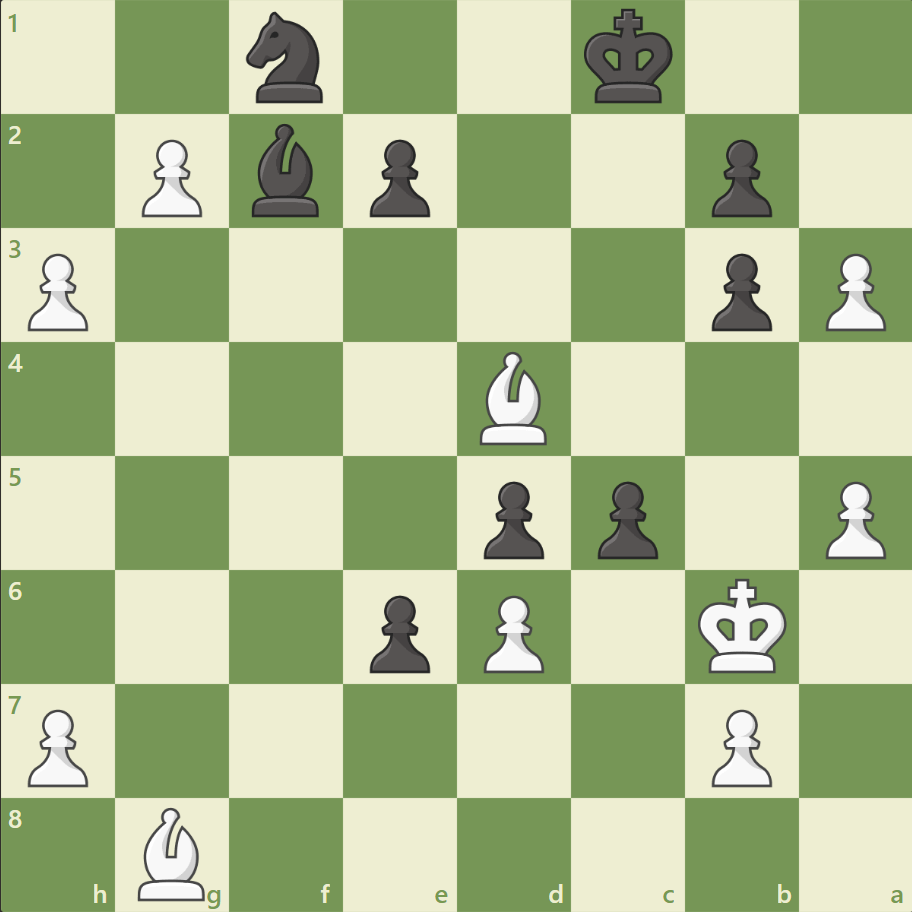B: (131, 801, 215, 904), (471, 347, 555, 449)
K: (692, 571, 792, 679)
P: (701, 700, 776, 791), (20, 700, 95, 791), (474, 586, 549, 677), (20, 246, 95, 337), (133, 132, 208, 223), (815, 473, 889, 564), (815, 246, 889, 337)
b: (244, 120, 328, 222)
k: (579, 4, 679, 112)
n: (238, 7, 335, 110)
p: (474, 473, 549, 564), (701, 246, 776, 337), (701, 132, 776, 223), (361, 586, 435, 677), (588, 473, 662, 564), (361, 132, 435, 223)
